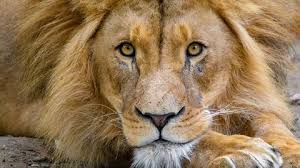lion: (12, 8, 272, 155)
